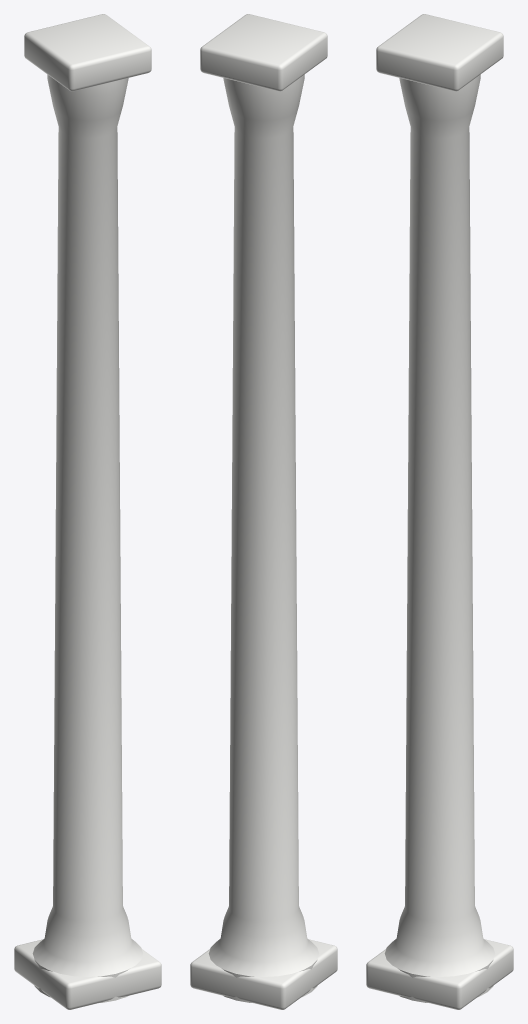
The model's file is coluna_classica.glb.
3 views of the same model, side by side, from view 1: azimuth 30°, elevation 25°; view 2: azimuth 150°, elevation 25°; view 3: azimuth 330°, elevation 25° (orthographic).
Visible parts, largest first — view 1: coluna_classica; view 2: coluna_classica; view 3: coluna_classica.
Part boxes in pixels (left/top/right/bottom): coluna_classica: left=14, top=14, right=161, bottom=1009; coluna_classica: left=190, top=14, right=337, bottom=1009; coluna_classica: left=366, top=14, right=513, bottom=1009.
Size of the model in its own units: 0.3 by 2.82 by 0.3.
Materials: 1 (1 with a texture image).
